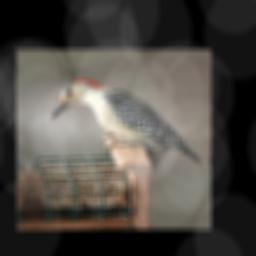Woodpecker: (43, 71, 202, 180)
